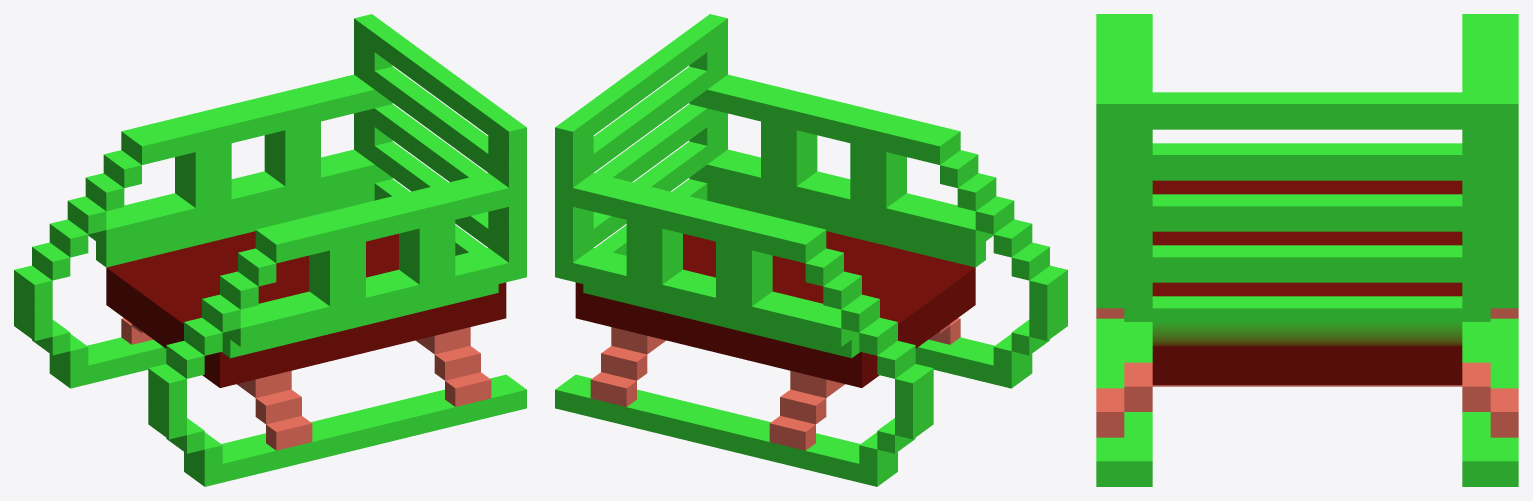
File: Vehicle_5.fbx
3 renders of one model, left to right at view 1: azimuth 30°, elevation 25°; view 2: azimuth 150°, elevation 25°; view 3: azimuth 270°, elevation 25°, orthographic. The views are drawn at different scales.
Parts seen in each view (by area): view 1: Vehicle_5; view 2: Vehicle_5; view 3: Vehicle_5.
Boxes of the visible parts, <box> form: Vehicle_5: <box>14,14,526,486</box>; Vehicle_5: <box>555,14,1067,486</box>; Vehicle_5: <box>1096,14,1518,486</box>.
Bounding box in the file's own units: 20 × 15 × 15.
1 material, 1 textured.
